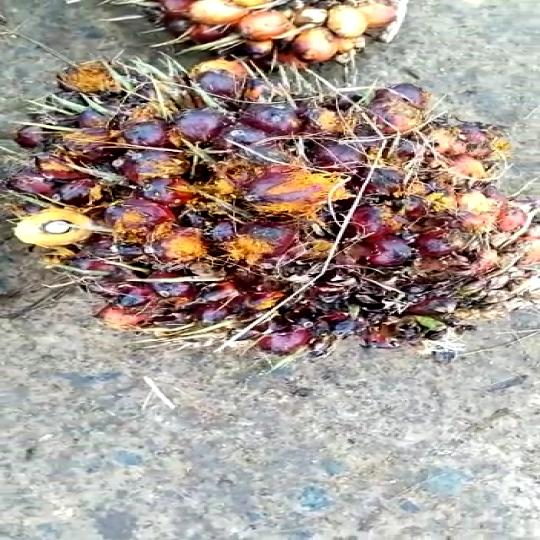masak: (1, 53, 540, 351)
